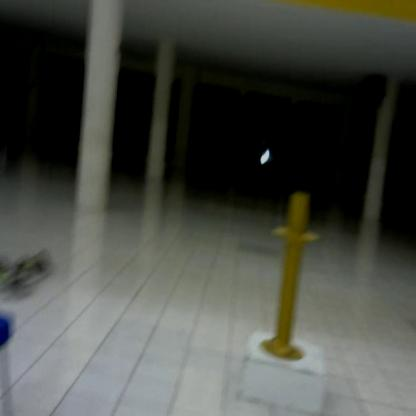pole: (259, 190, 327, 372)
